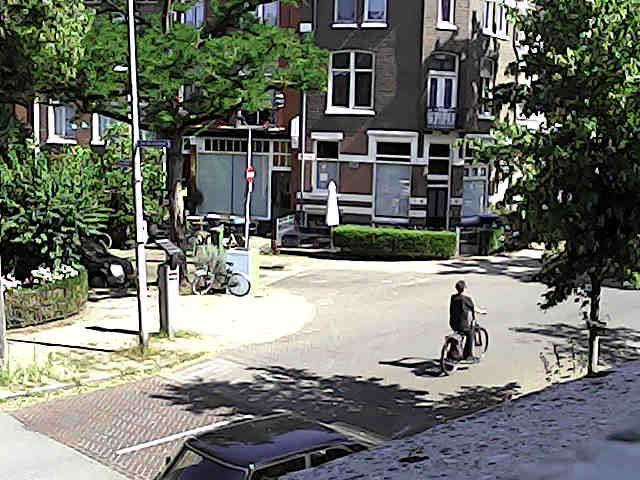suv: (157, 412, 382, 479)
